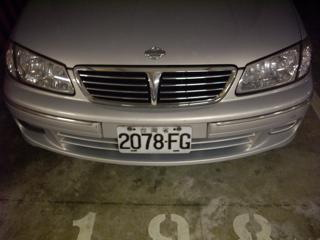plate: (114, 124, 194, 155)
